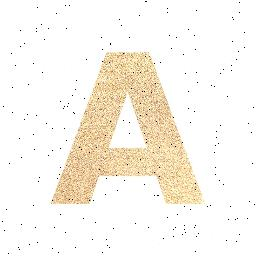a: (49, 46, 209, 214)
